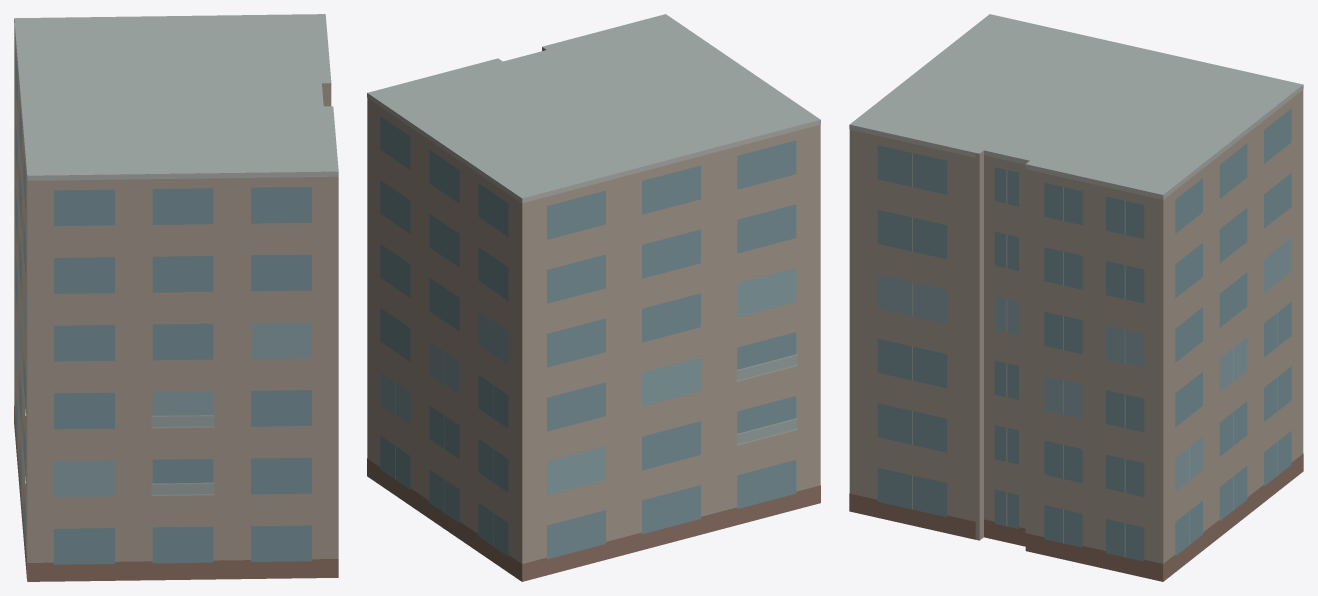
The model's file is survey-upis-33019930.glb.
The picture shows the model from 3 angles, left to right: view 1: azimuth 30°, elevation 25°; view 2: azimuth 150°, elevation 25°; view 3: azimuth 270°, elevation 25°; orthographic projection. The views are drawn at different scales.
Parts seen in each view (by area): view 1: survey-upis-33019930.tmp; view 2: survey-upis-33019930.tmp; view 3: survey-upis-33019930.tmp.
Part boxes in pixels (<box>): survey-upis-33019930.tmp: <box>14,14,338,581</box>; survey-upis-33019930.tmp: <box>367,14,820,581</box>; survey-upis-33019930.tmp: <box>849,14,1303,581</box>.
Bounding box in the file's own units: 19.32 × 19.24 × 20.47.
